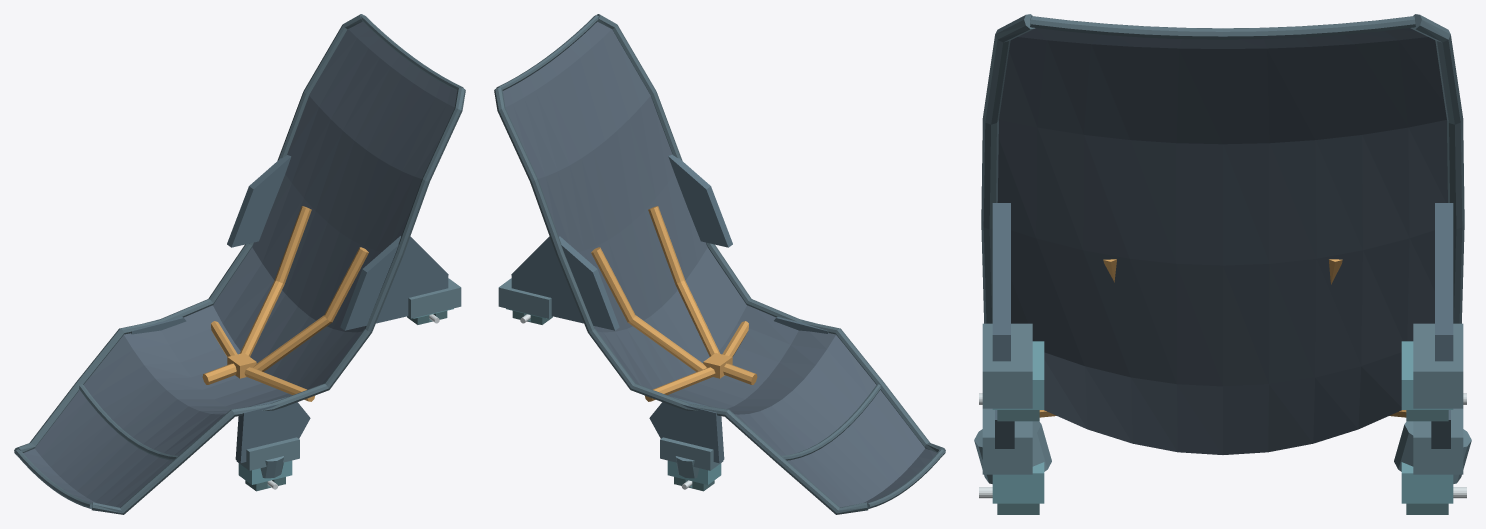
3 renders of one model, left to right at view 1: azimuth 30°, elevation 25°; view 2: azimuth 150°, elevation 25°; view 3: azimuth 270°, elevation 25°, orthographic. The views are drawn at different scales.
Parts seen in each view (by area): view 1: S01_Cabin, S01_Cabin_MidDocks, S01_Cabin_Mount_H; view 2: S01_Cabin, S01_Cabin_MidDocks, S01_Cabin_Mount_H; view 3: S01_Cabin, S01_Cabin_MidDocks, S01_Cabin_Mount_H.
Part boxes in pixels (left/top/right/bottom): S01_Cabin: left=14, top=14, right=465, bottom=514; S01_Cabin_MidDocks: left=236, top=437, right=299, bottom=491; S01_Cabin_Mount_H: left=407, top=278, right=461, bottom=324; S01_Cabin: left=494, top=14, right=945, bottom=514; S01_Cabin_MidDocks: left=660, top=437, right=723, bottom=491; S01_Cabin_Mount_H: left=498, top=278, right=552, bottom=324; S01_Cabin: left=981, top=14, right=1464, bottom=454; S01_Cabin_MidDocks: left=974, top=408, right=1471, bottom=514; S01_Cabin_Mount_H: left=979, top=323, right=1466, bottom=421.
Size of the model in its own units: 0.5395 by 0.5094 by 0.3285.
